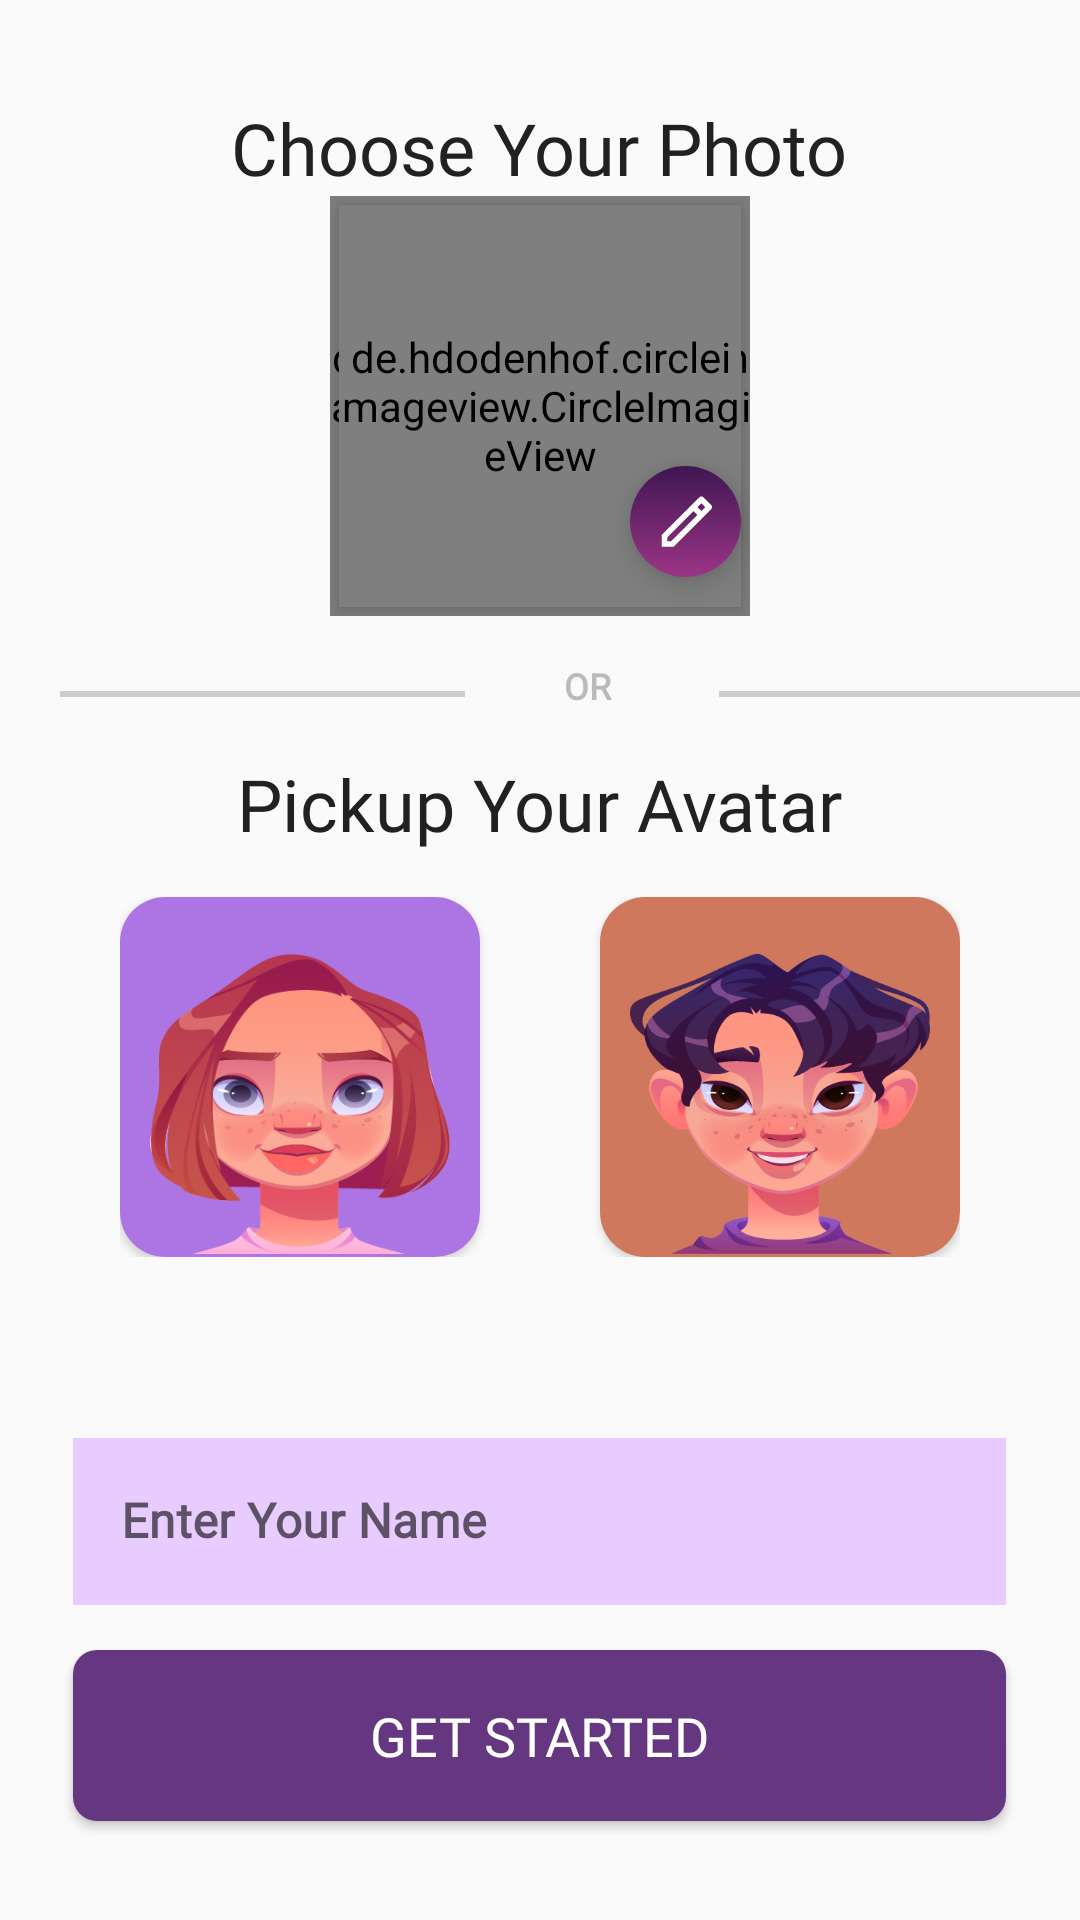

Screen size 1080*1920. Icon name, then its center in pixels as [x,y]:
boy: [780,1104]
girl: [300,1104]
pen: [685,521]
